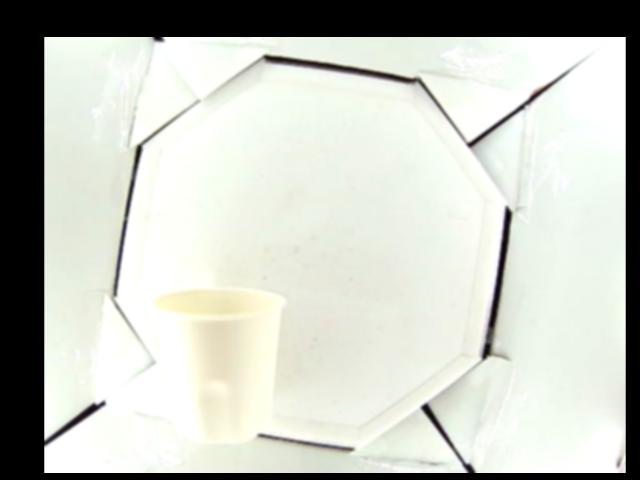Cup: (151, 284, 285, 442)
